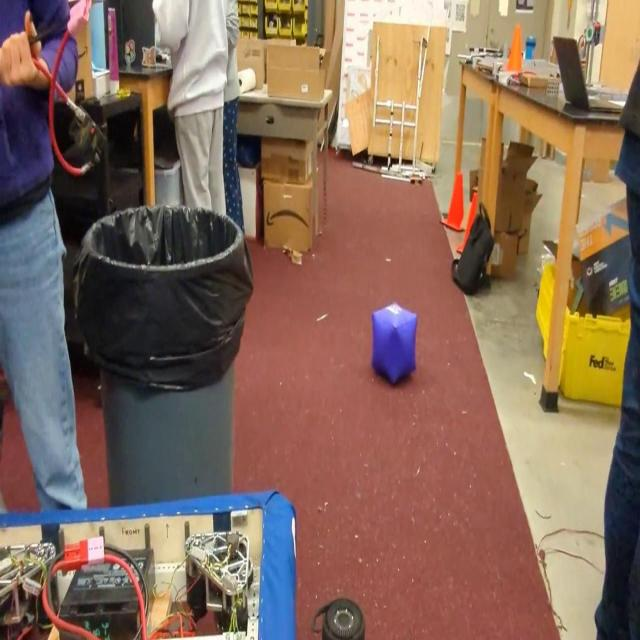frc_cube: (371, 302, 417, 387)
